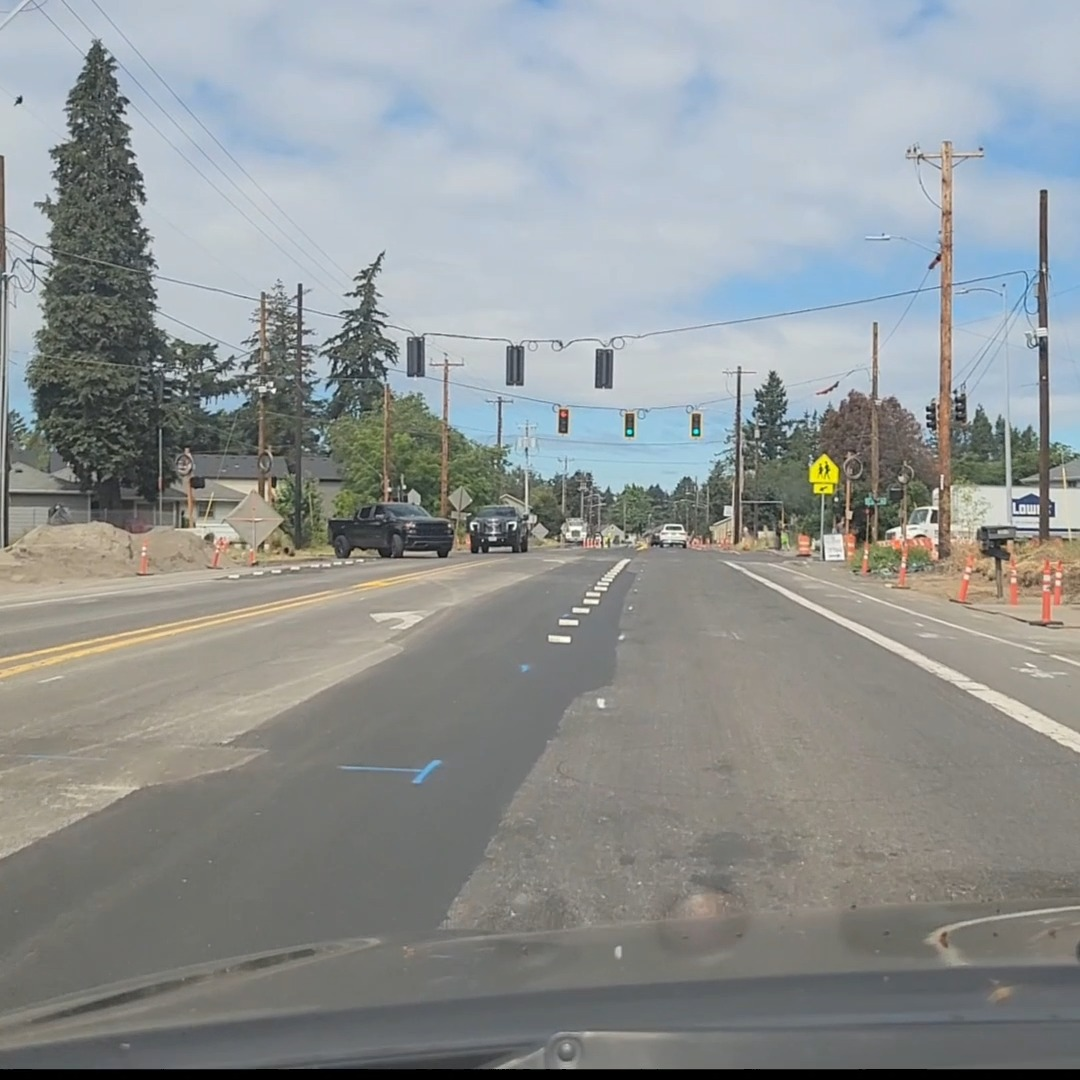car: (325, 502, 452, 559), (467, 504, 534, 553), (653, 523, 688, 548)
crosswalk-sign: (808, 453, 839, 493)
delineator: (888, 542, 911, 589), (952, 556, 974, 604), (1050, 561, 1063, 606), (1007, 557, 1019, 605), (137, 543, 151, 575), (859, 540, 871, 574), (246, 543, 256, 566)
